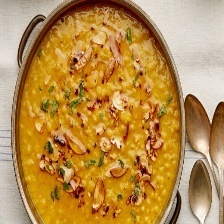dal: (10, 0, 184, 224)
